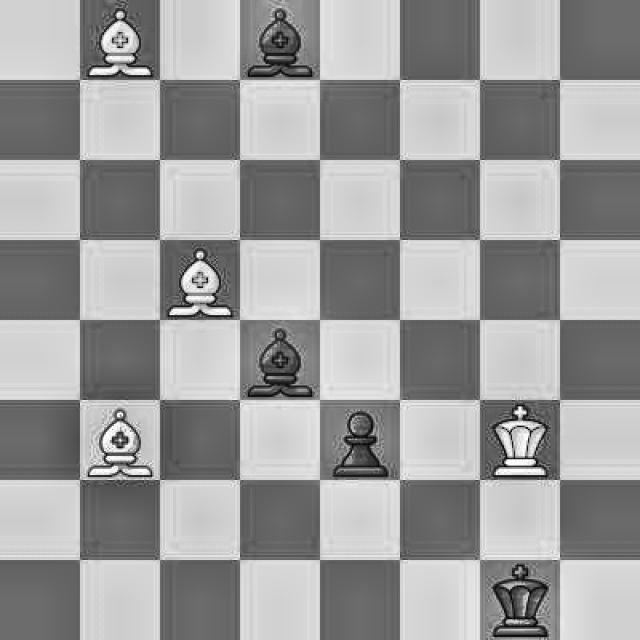black bishop: (243, 322, 315, 397), (246, 7, 315, 82)
black king: (486, 558, 549, 640)
black pawn: (329, 408, 394, 480)
white bishop: (88, 402, 160, 488), (164, 247, 236, 316), (90, 9, 156, 79)
white king: (487, 403, 556, 485)
